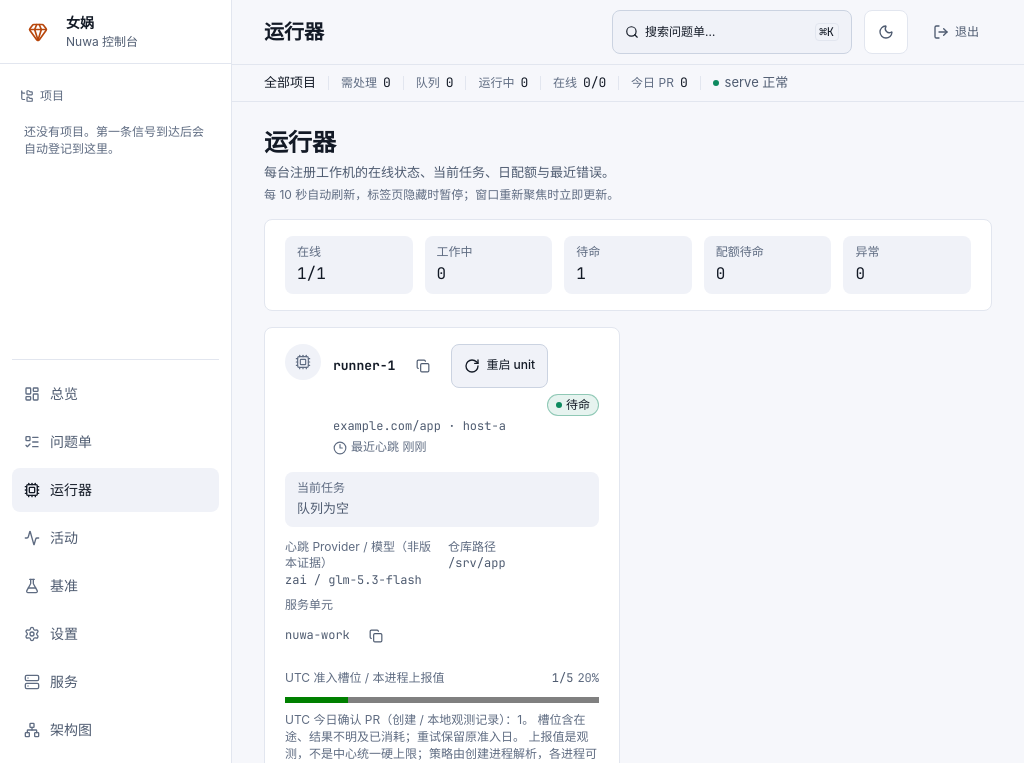
Test: RestartRunnerButton › schedules a restart with CSRF, toasts and invalidates fleet views
The width and height of the screenshot is (1024, 763).
Step 1. Click the button with aria-label "重启 unit：runner-1" → {"x": 500, "y": 366}, box [451,344,548,388]
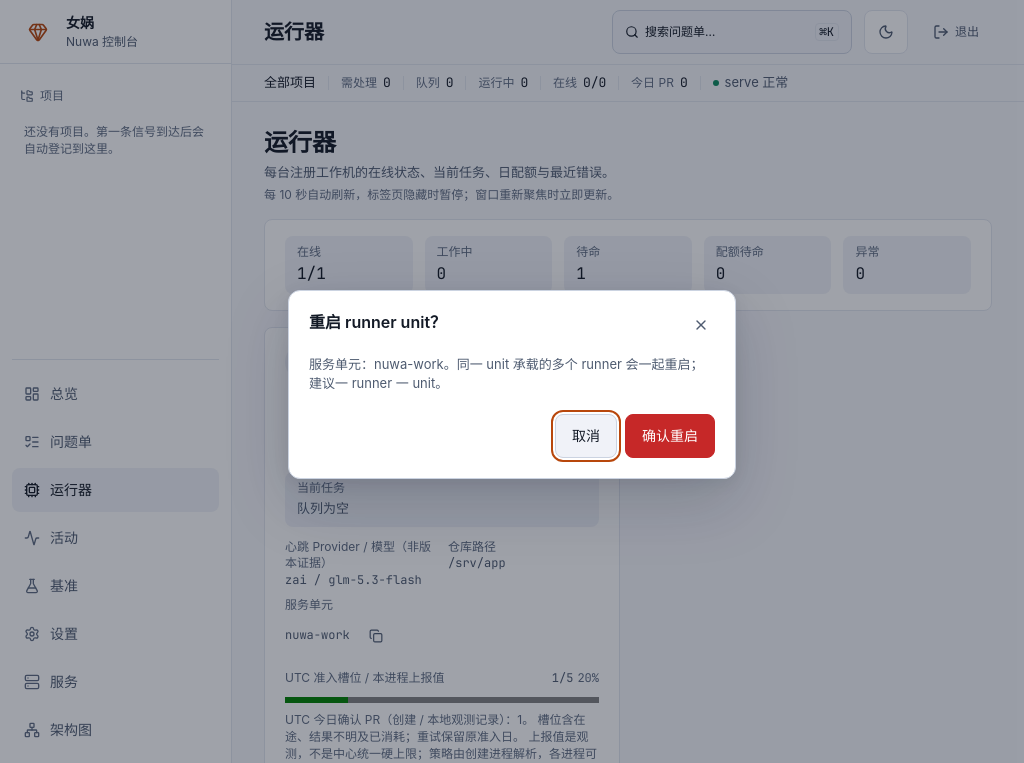
Step 2. Click the button "确认重启" → {"x": 670, "y": 436}, box [625,414,715,458]
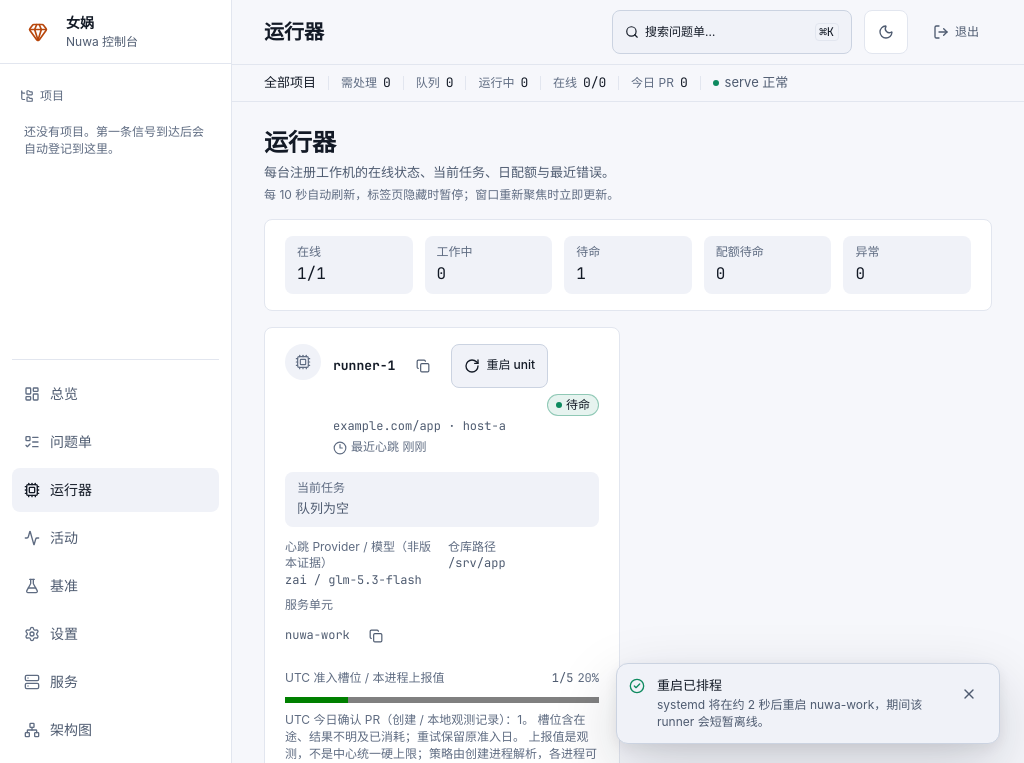
Now the text "重启已排程" is shown, box [657,677,722,693]
Now the dialog is gone
